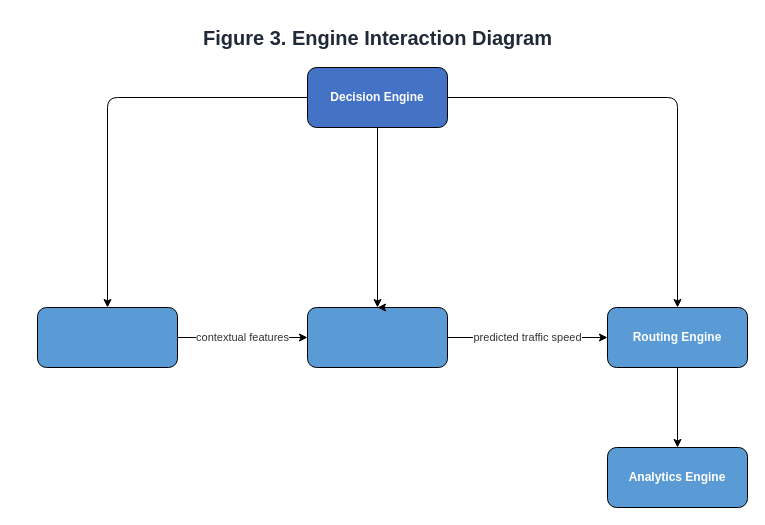
This 765x525 diagram has some shape labels left out. Here are the shapes that lost their labels. From the top down, the centre of each, then its label:
At point 107,337: "Context Engine".
At point 377,337: "Prediction Engine".
